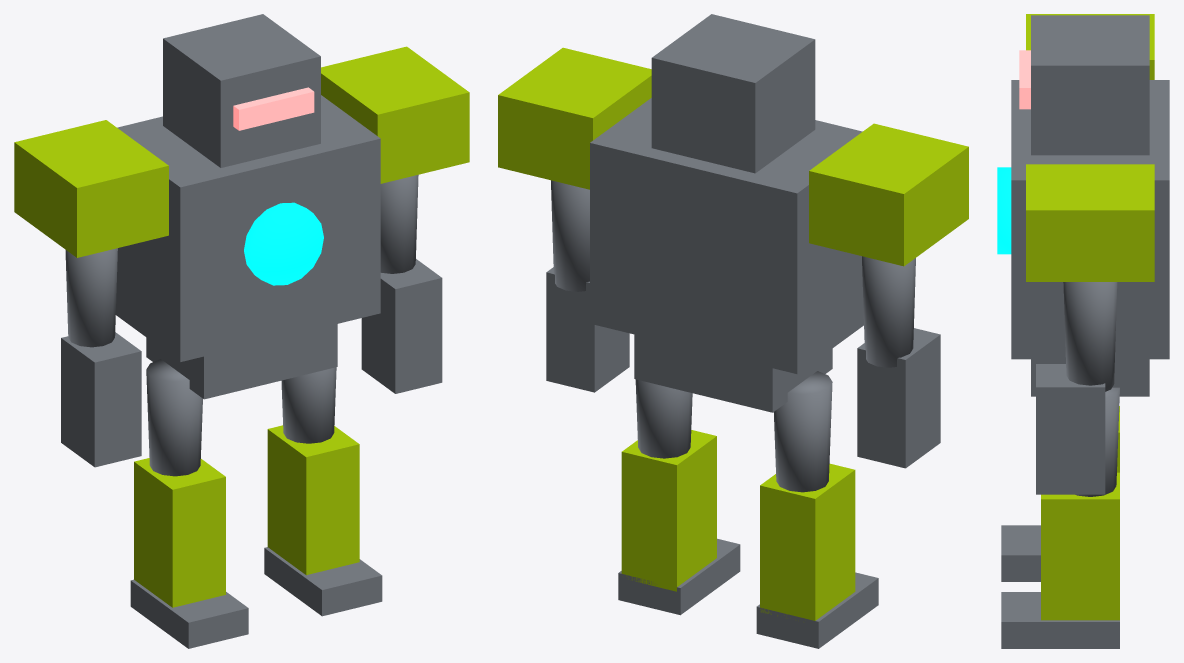
The picture shows the model from 3 angles, left to right: view 1: azimuth 30°, elevation 25°; view 2: azimuth 150°, elevation 25°; view 3: azimuth 270°, elevation 25°; orthographic projection. The views are drawn at different scales.
Visible parts, largest first — view 1: GeneratedObject3D; view 2: GeneratedObject3D; view 3: GeneratedObject3D.
Boxes of the visible parts, <box> form: GeneratedObject3D: <box>14,14,469,648</box>; GeneratedObject3D: <box>498,14,968,648</box>; GeneratedObject3D: <box>997,14,1169,648</box>.
Bounding box in the file's own units: 2.35 × 3.12 × 0.87.
